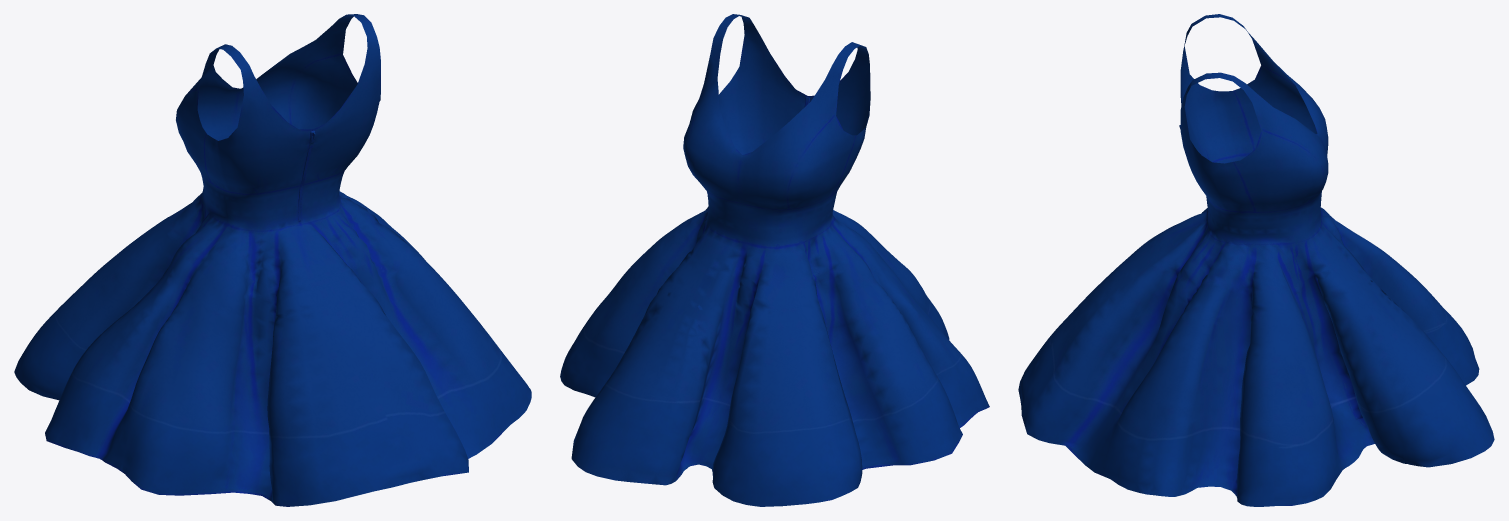
File: blue.fbx
3 renders of one model, left to right at view 1: azimuth 30°, elevation 25°; view 2: azimuth 150°, elevation 25°; view 3: azimuth 270°, elevation 25°, orthographic. The views are drawn at different scales.
Visible parts, largest first — view 1: defaultMaterial; view 2: defaultMaterial; view 3: defaultMaterial.
Boxes of the visible parts, <box> form: defaultMaterial: <box>14,14,531,506</box>; defaultMaterial: <box>560,14,989,506</box>; defaultMaterial: <box>1018,14,1494,506</box>.
Size of the model in its own units: 2579 by 2319 by 2687.
Materials: 1 (1 with a texture image).
